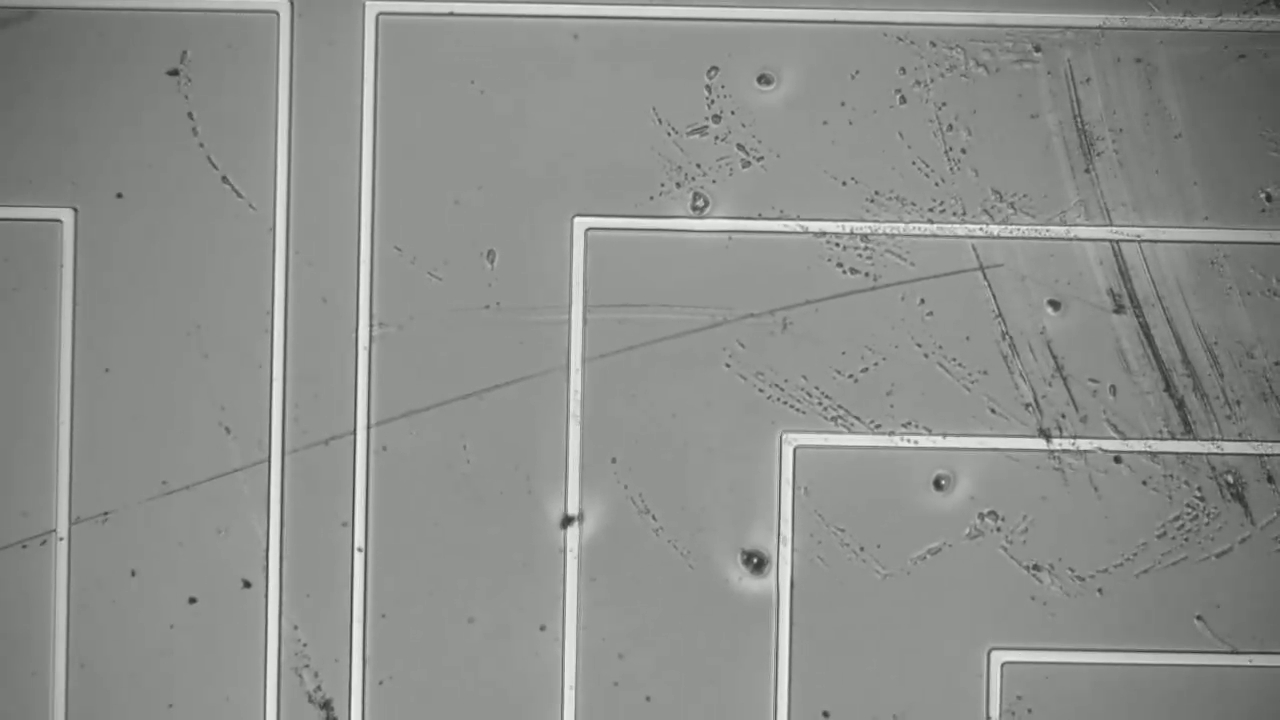scratch: (15, 268, 996, 551), (1064, 52, 1251, 512), (939, 98, 1063, 438), (976, 240, 1057, 461), (172, 54, 248, 210)
stains_enbedded: (548, 506, 604, 558)
